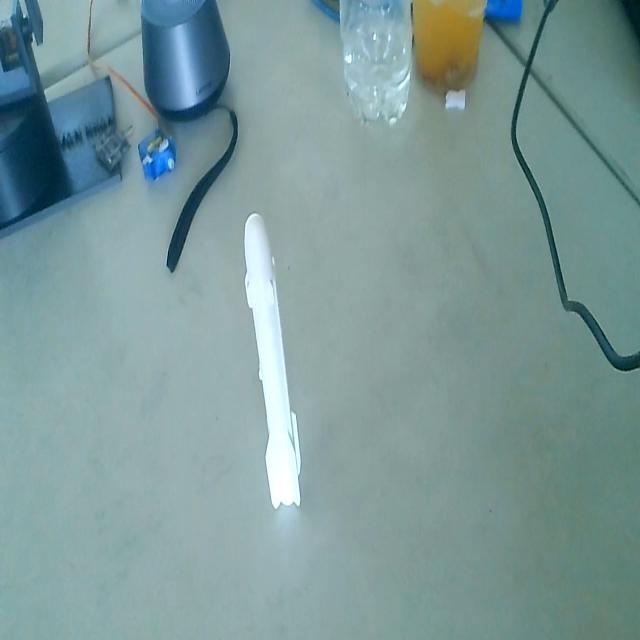Rocket: (240, 206, 306, 515)
